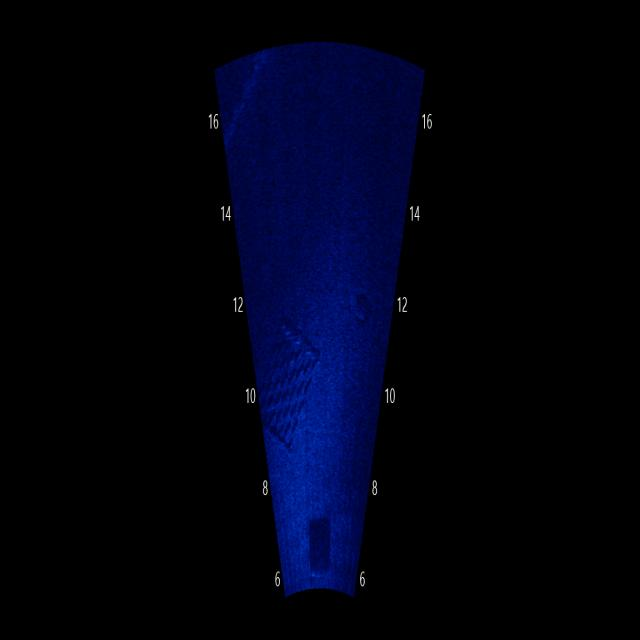square: (250, 302, 336, 464), (295, 502, 345, 584)
